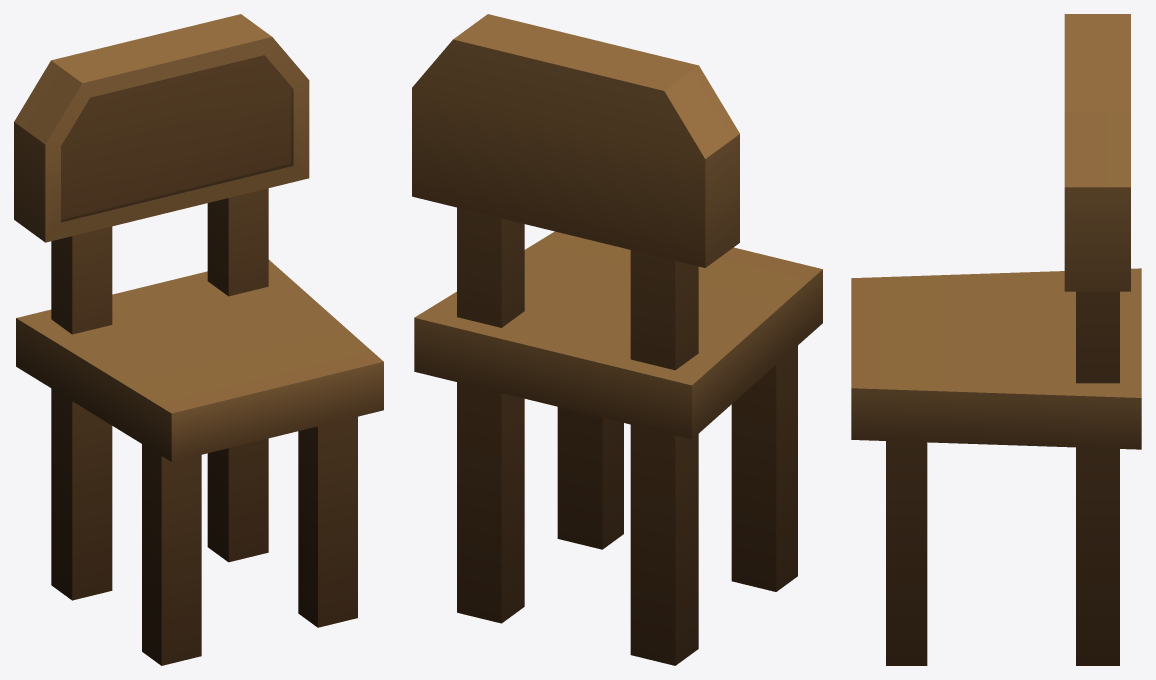
File: Chair_01.fbx
3 views of the same model, side by side, from view 1: azimuth 30°, elevation 25°; view 2: azimuth 150°, elevation 25°; view 3: azimuth 270°, elevation 25° (orthographic). The views are drawn at different scales.
Visible parts, largest first — view 1: Chair_01; view 2: Chair_01; view 3: Chair_01.
Boxes of the visible parts, bbox=[...] form: Chair_01: bbox=[14, 14, 383, 665]; Chair_01: bbox=[412, 14, 822, 665]; Chair_01: bbox=[851, 14, 1141, 665].
Size of the model in its own units: 54.19 by 102 by 48.6.
1 material, 1 textured.
